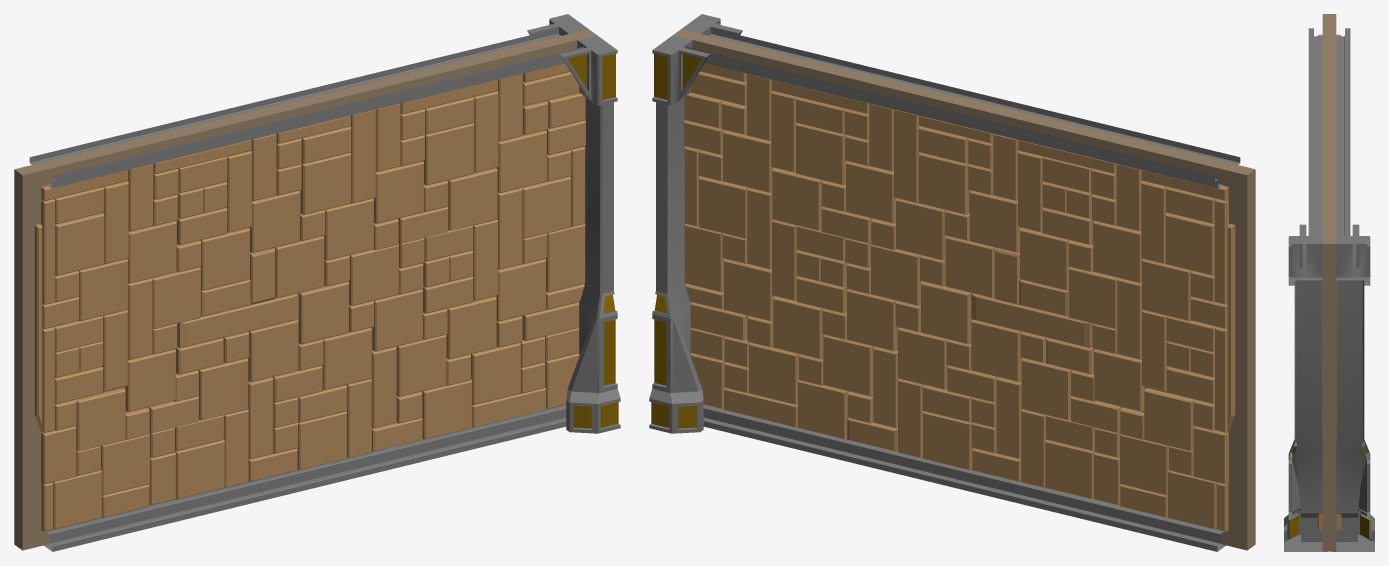
File: wall_double_1.fbx
The picture shows the model from 3 angles, left to right: view 1: azimuth 30°, elevation 25°; view 2: azimuth 150°, elevation 25°; view 3: azimuth 270°, elevation 25°; orthographic projection. The views are drawn at different scales.
Visible parts, largest first — view 1: wall_double_1; view 2: wall_double_1; view 3: wall_double_1.
Part boxes in pixels (<box>): wall_double_1: <box>14,14,620,551</box>; wall_double_1: <box>649,14,1255,551</box>; wall_double_1: <box>1284,14,1374,551</box>.
Bounding box in the file's own units: 157 × 26.33 × 98.43.
